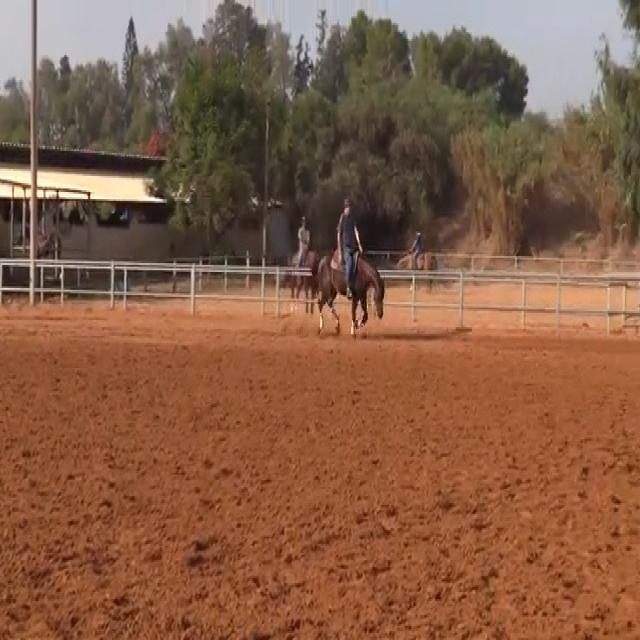horse: (313, 245, 386, 338)
